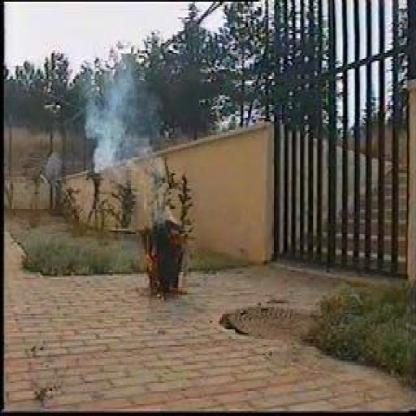-: (82, 76, 132, 172)
